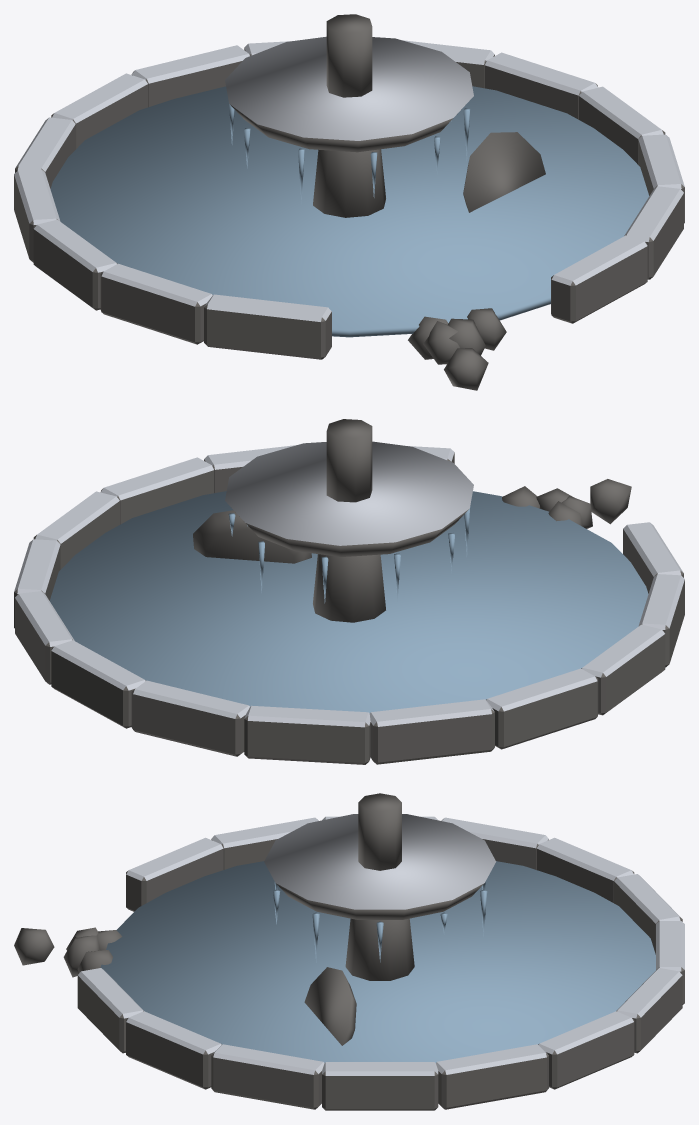
Rendered from fountain_broken.glb.
3 renders of one model, top to bottom at view 1: azimuth 30°, elevation 25°; view 2: azimuth 150°, elevation 25°; view 3: azimuth 270°, elevation 25°, orthographic. The views are drawn at different scales.
Visible parts, largest first — view 1: fountain_broken; view 2: fountain_broken; view 3: fountain_broken.
Boxes of the visible parts, x1,y1,x2,y2 form: fountain_broken: [14, 14, 684, 390]; fountain_broken: [14, 419, 684, 764]; fountain_broken: [14, 793, 684, 1110].
Size of what is drawn, in the model's own units: 8.4 by 3.23 by 9.24.
